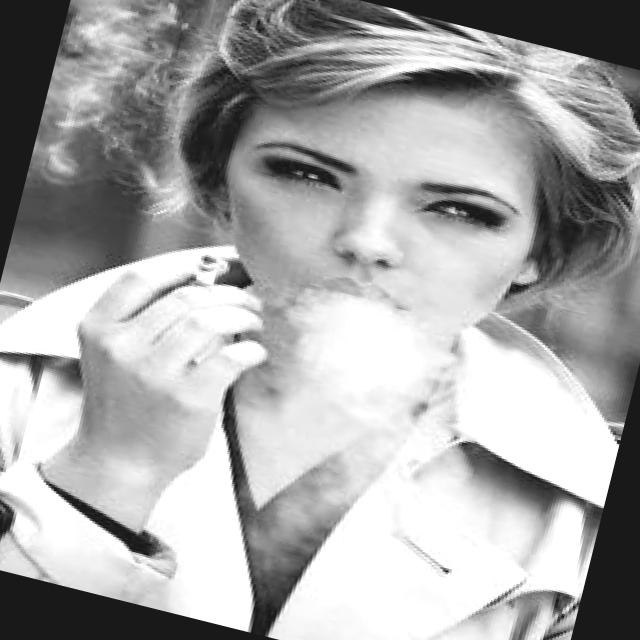cigarette: (184, 248, 241, 302)
